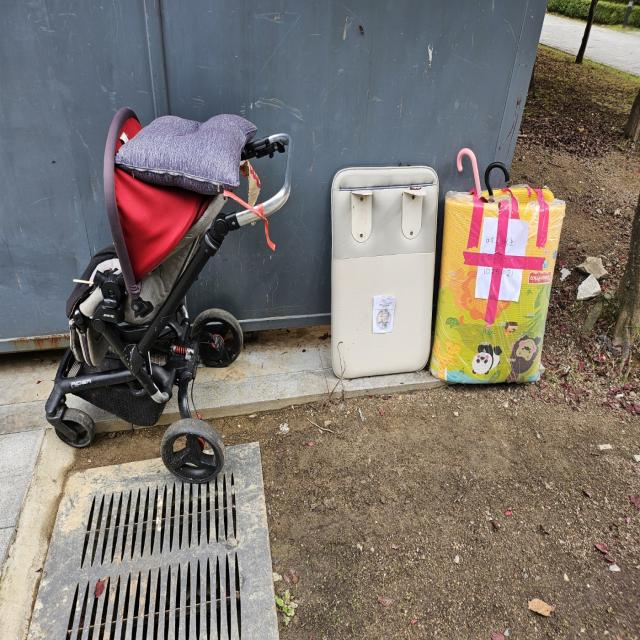Large Waste Items: (54, 111, 288, 478), (441, 183, 558, 394), (329, 160, 438, 378)
